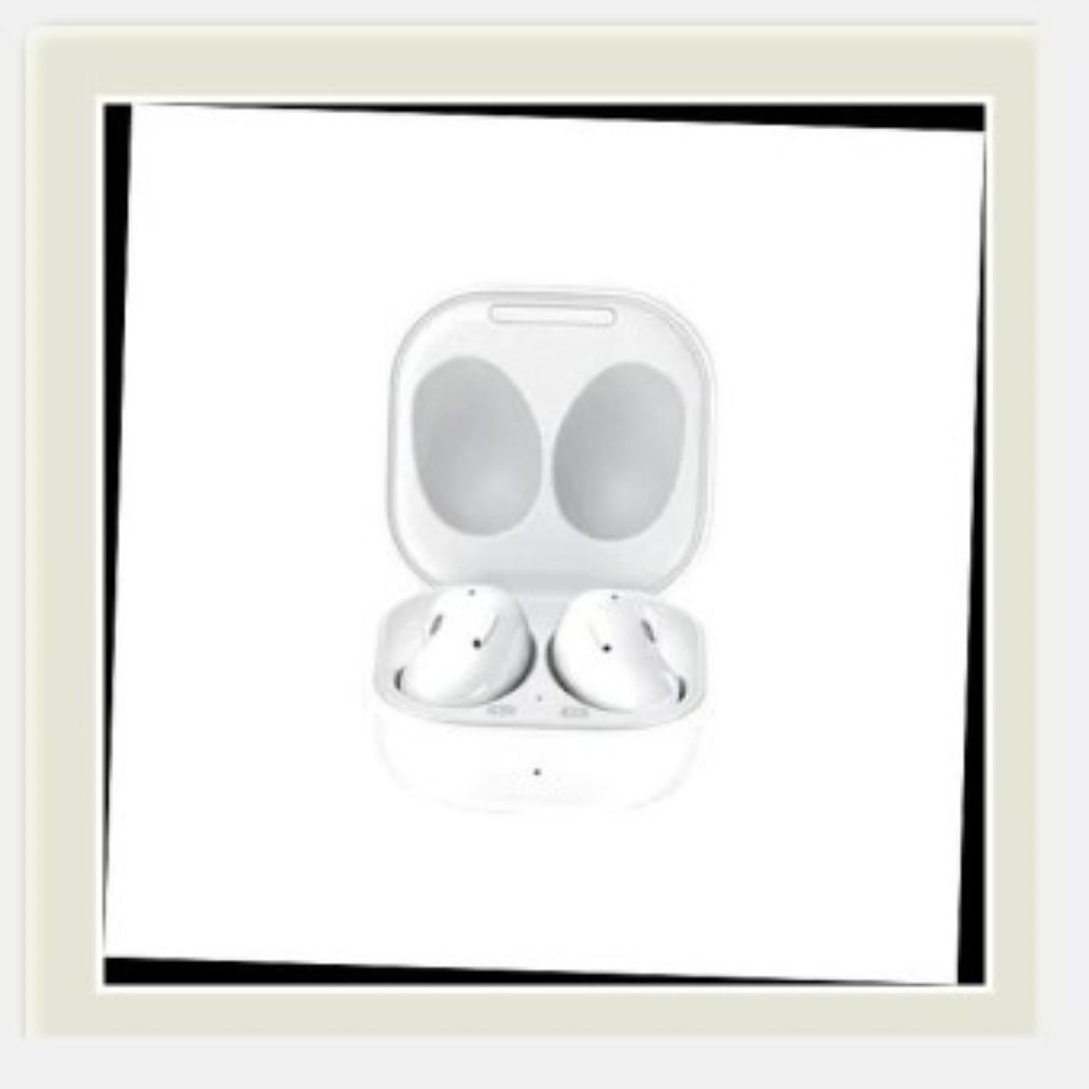Buds: (363, 285, 724, 835)
Buds_Units: (391, 576, 536, 718), (547, 584, 689, 721)
